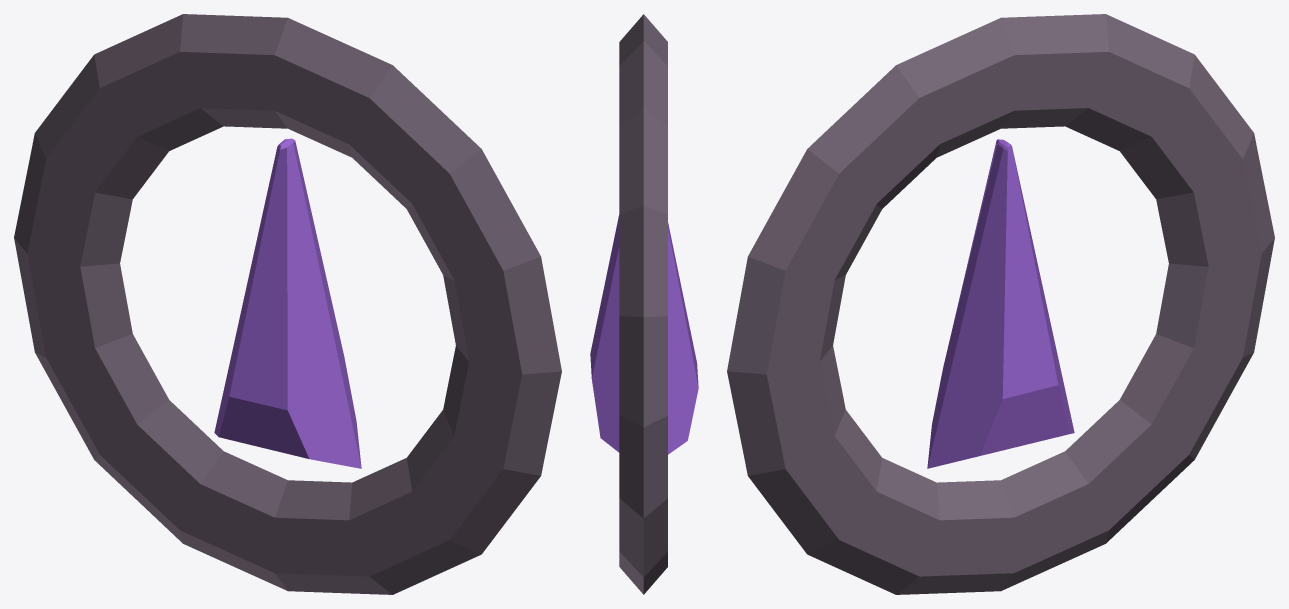
The model's file is CoreCrystal.fbx.
The picture shows the model from 3 angles, left to right: view 1: azimuth 30°, elevation 25°; view 2: azimuth 150°, elevation 25°; view 3: azimuth 270°, elevation 25°; orthographic projection. The views are drawn at different scales.
Parts seen in each view (by area): view 1: Torus, Cylinder; view 2: Torus, Cylinder; view 3: Torus, Cylinder.
Part boxes in pixels (x1=…): Torus: x1=14, y1=14, x2=561, y2=594; Cylinder: x1=214, y1=138, x2=361, y2=468; Torus: x1=619, y1=14, x2=667, y2=594; Cylinder: x1=590, y1=215, x2=698, y2=454; Torus: x1=727, y1=14, x2=1274, y2=594; Cylinder: x1=927, y1=139, x2=1074, y2=468.
Bounding box in the file's own units: 195 × 372 × 322.
